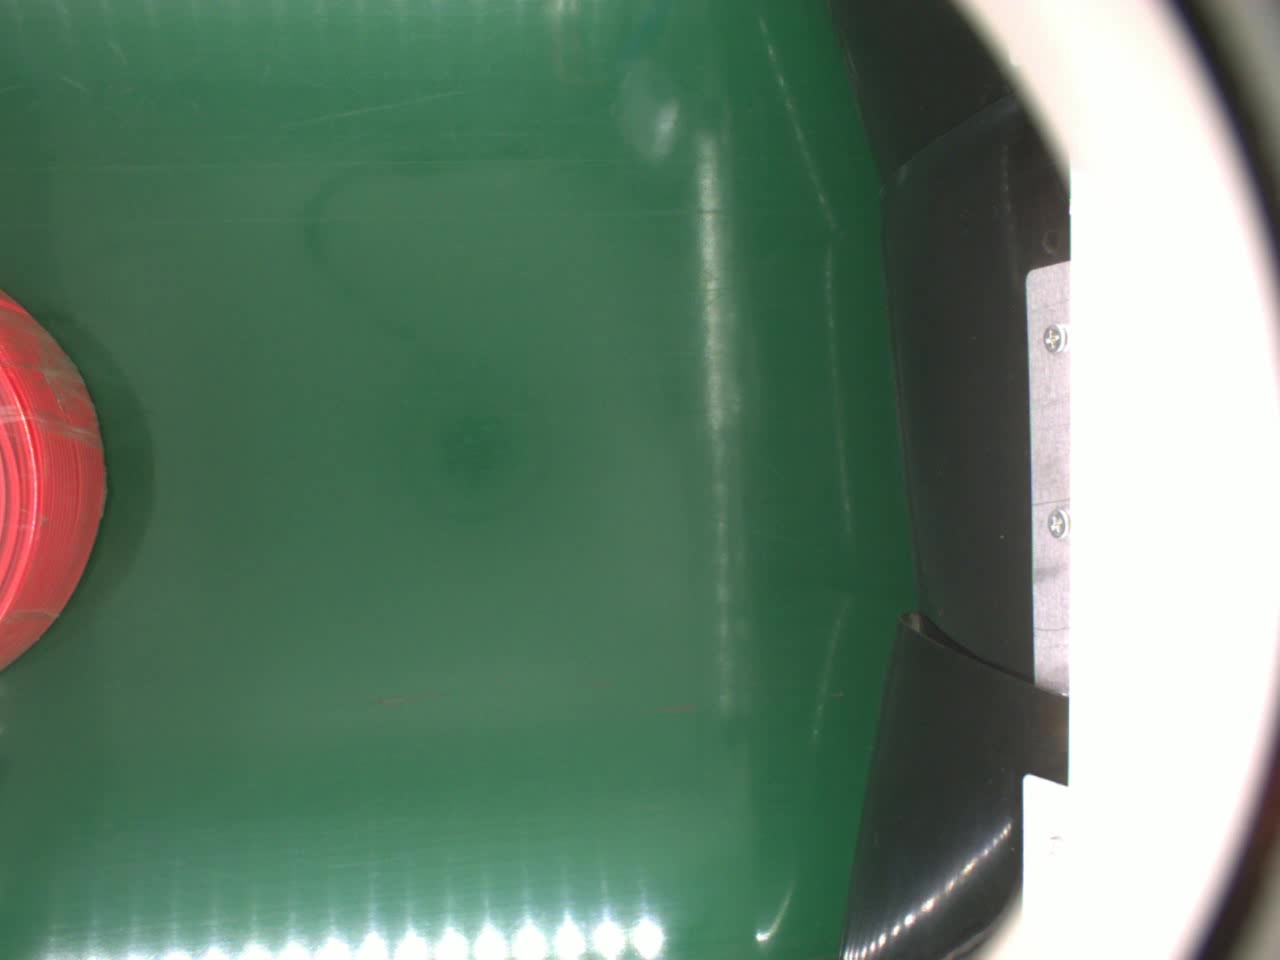red: (0, 289, 110, 666)
